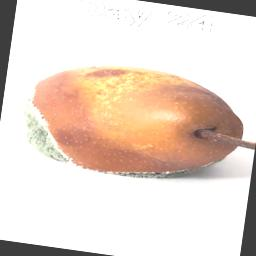Pear Rotten: (1, 44, 256, 199)
